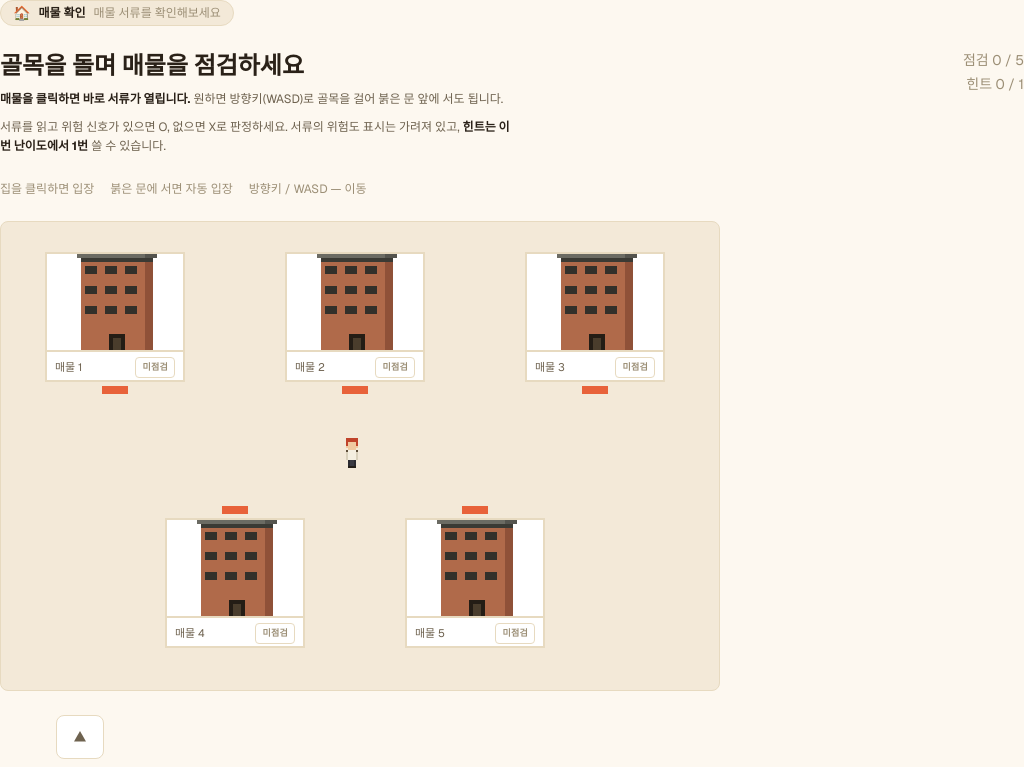
Test: MapBoard › 입장한 집이 힌트로 공개된 집이면 확인 직후 바로 서류 상태가 보인다
The image size is (1024, 767).
What coordinates should you click on to do the following:
click the button "매물 3 미점검"
I would click on:
 (595, 316)
Its box is [525, 252, 665, 382].
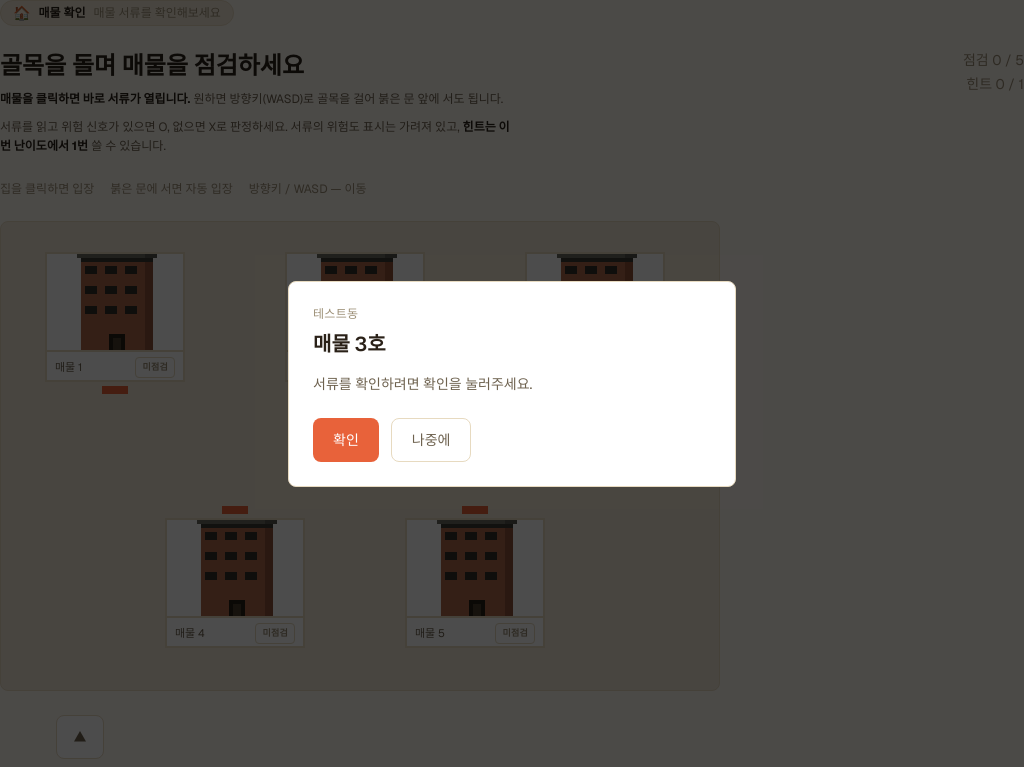
What coordinates should you click on to do the following:
click the button "확인"
I would click on:
 (346, 440)
Its box is [313, 418, 379, 462].
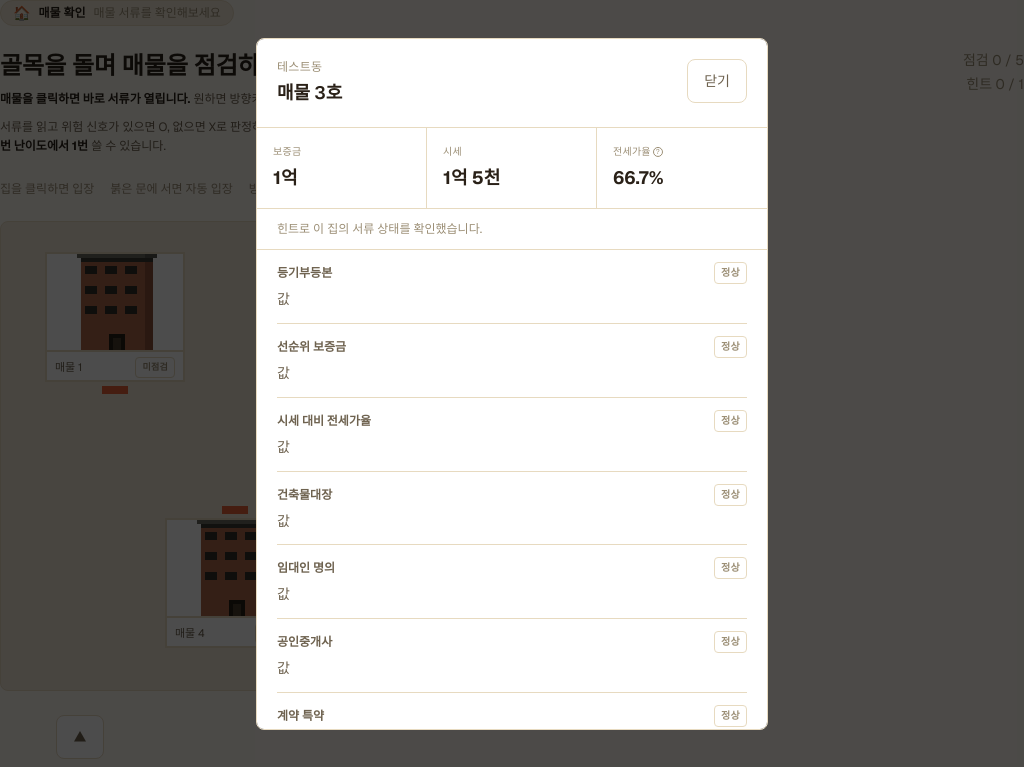
Expected: the text "정상" in the row of "등기부등본" is shown, [721, 266, 740, 279]
